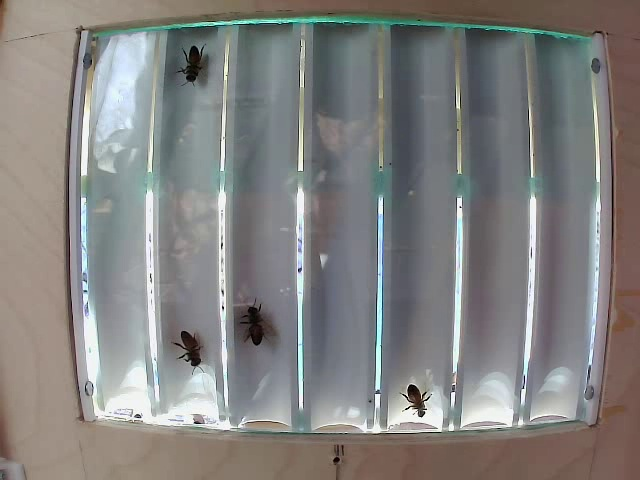bee: (236, 291, 284, 346), (390, 373, 434, 412), (167, 322, 200, 366), (174, 38, 200, 71)
